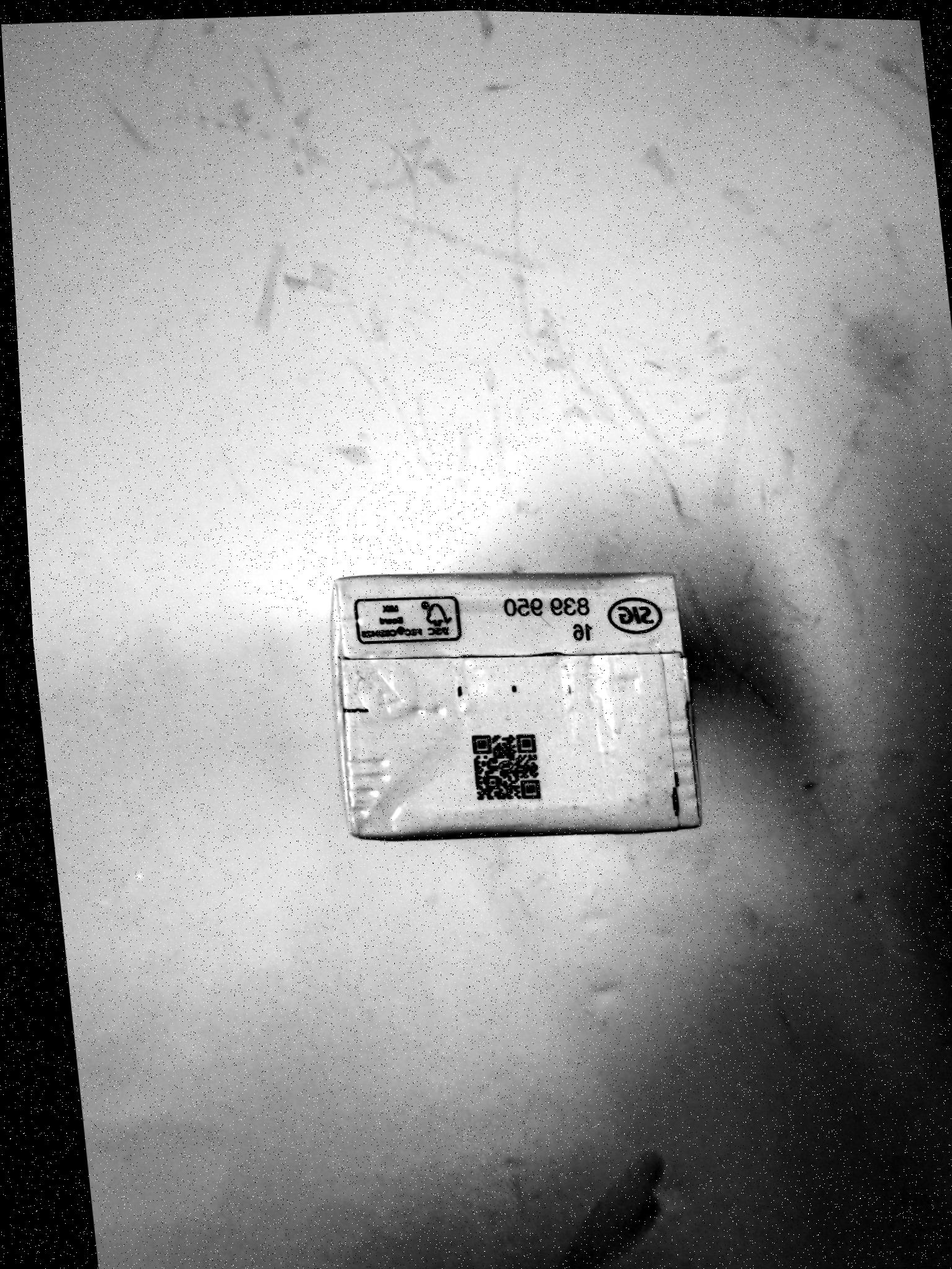milk_blue: (332, 573, 701, 841)
